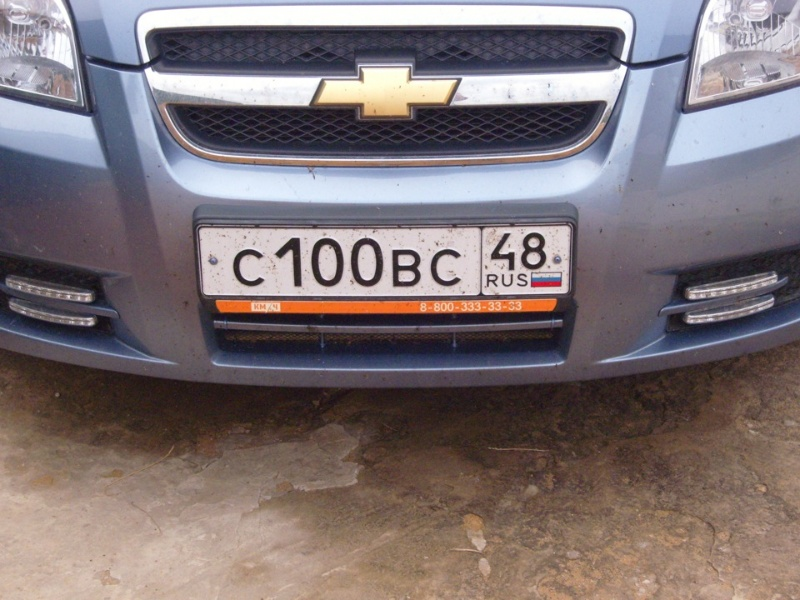car: (1, 1, 800, 385)
plate: (199, 225, 569, 292)
